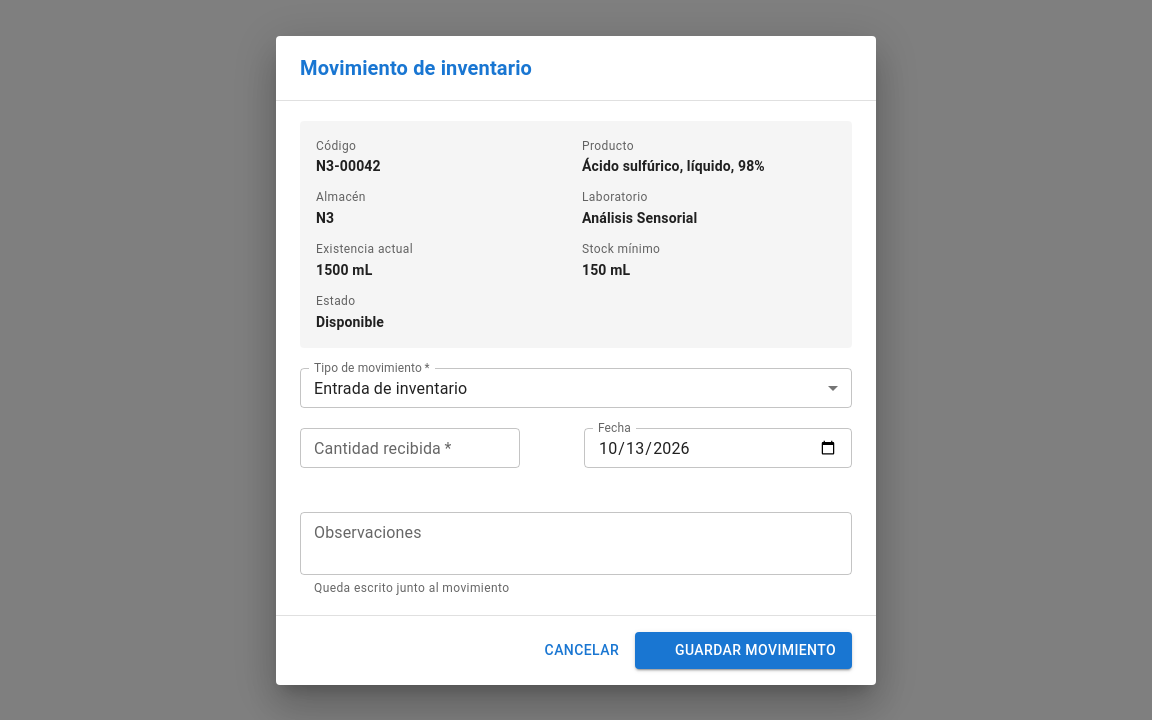
Test: DialogoMovimiento › no deja mandarlo al laboratorio donde ya está
Click the dropdown named "Tipo de movimiento": (391, 388) x1=314 y1=379 x2=467 y2=398
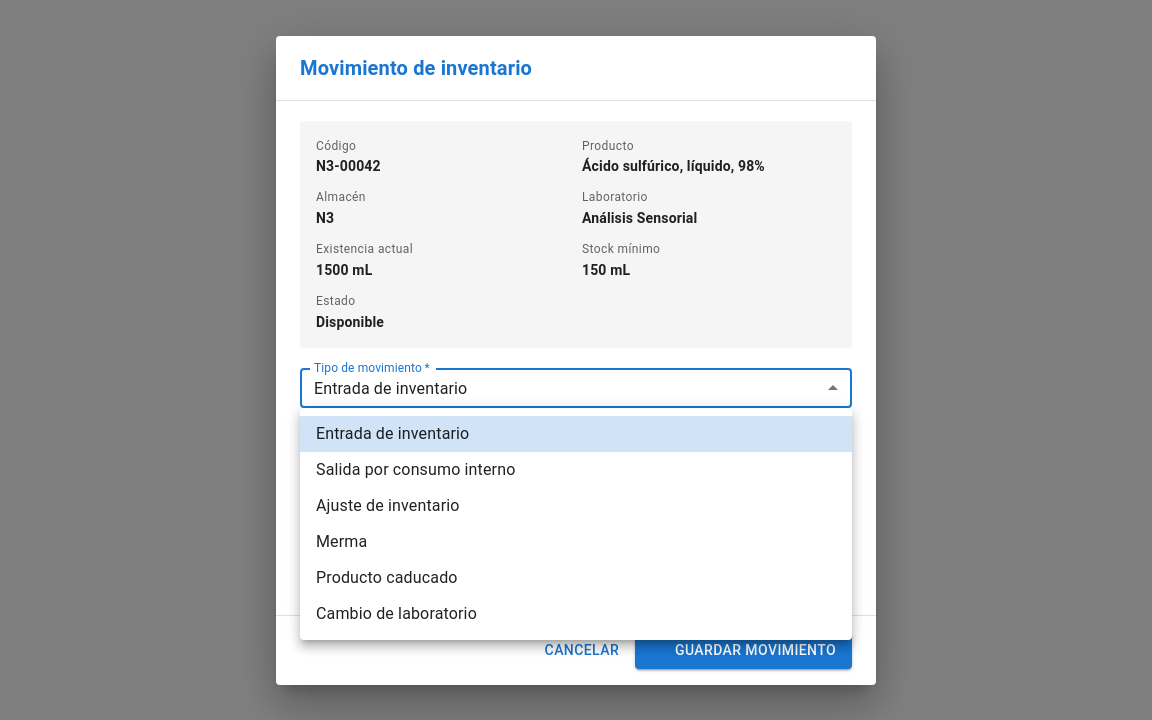
Click the option "Cambio de laboratorio": (396, 614) x1=316 y1=604 x2=477 y2=623
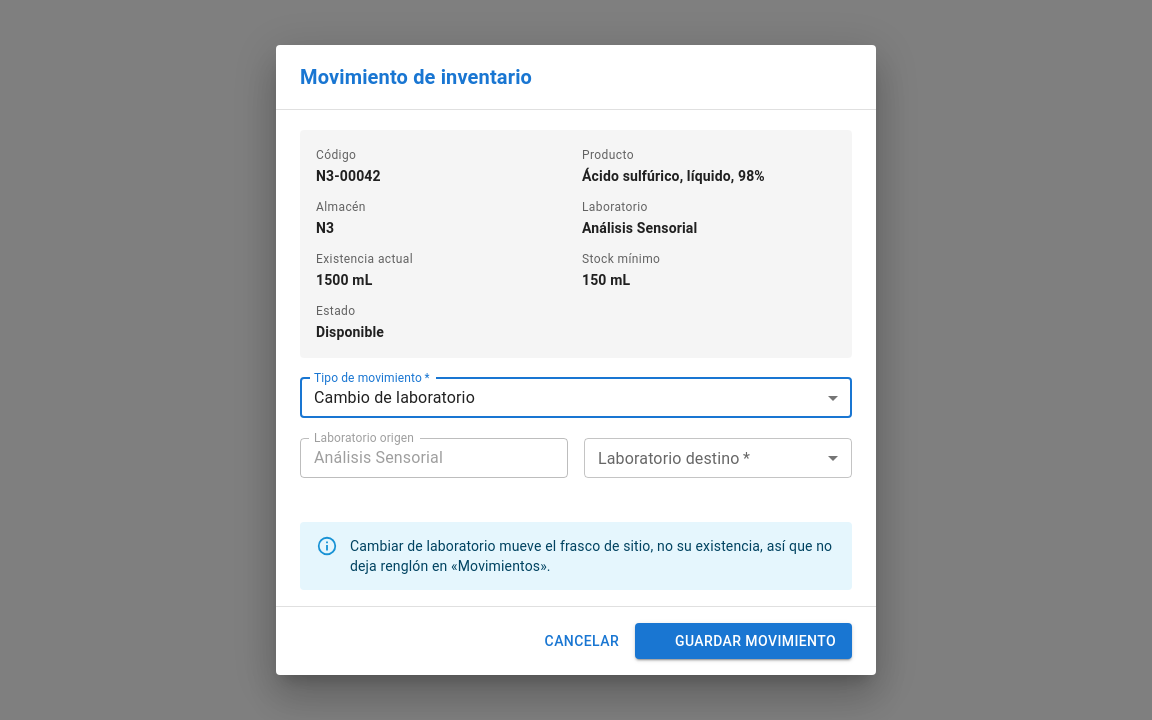
Click the dropdown named "Laboratorio destino": (718, 458) x1=584 y1=438 x2=852 y2=478
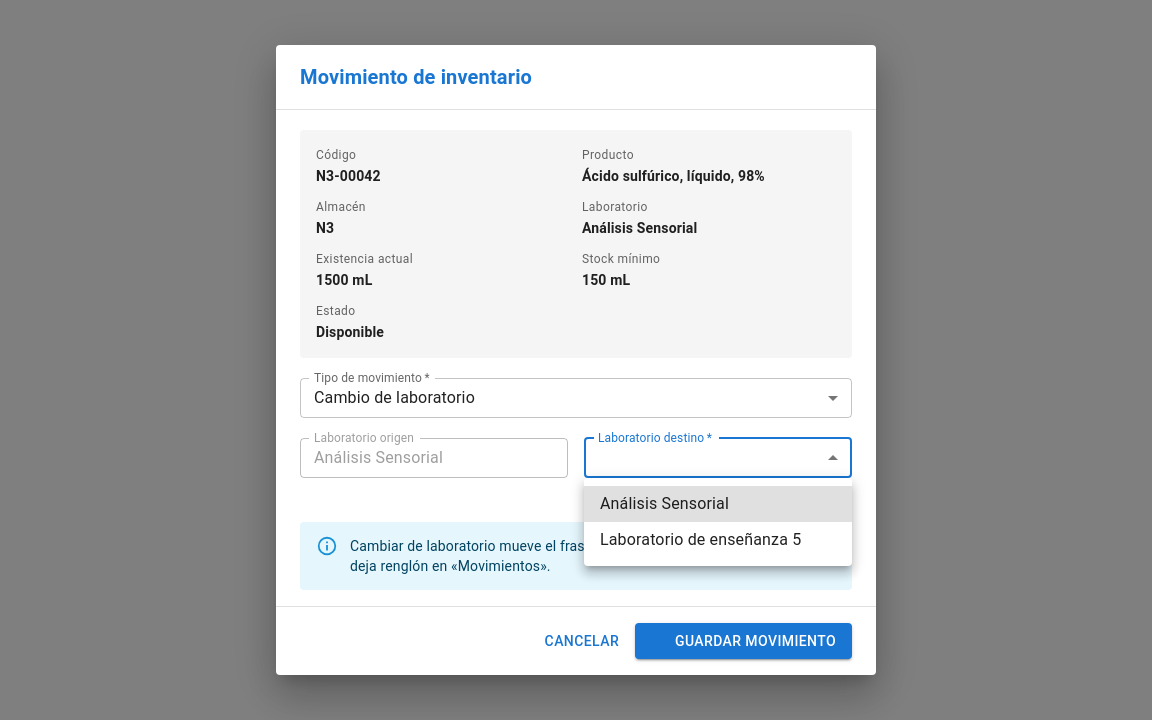
Click the option "Análisis Sensorial": (718, 504) x1=584 y1=486 x2=852 y2=522
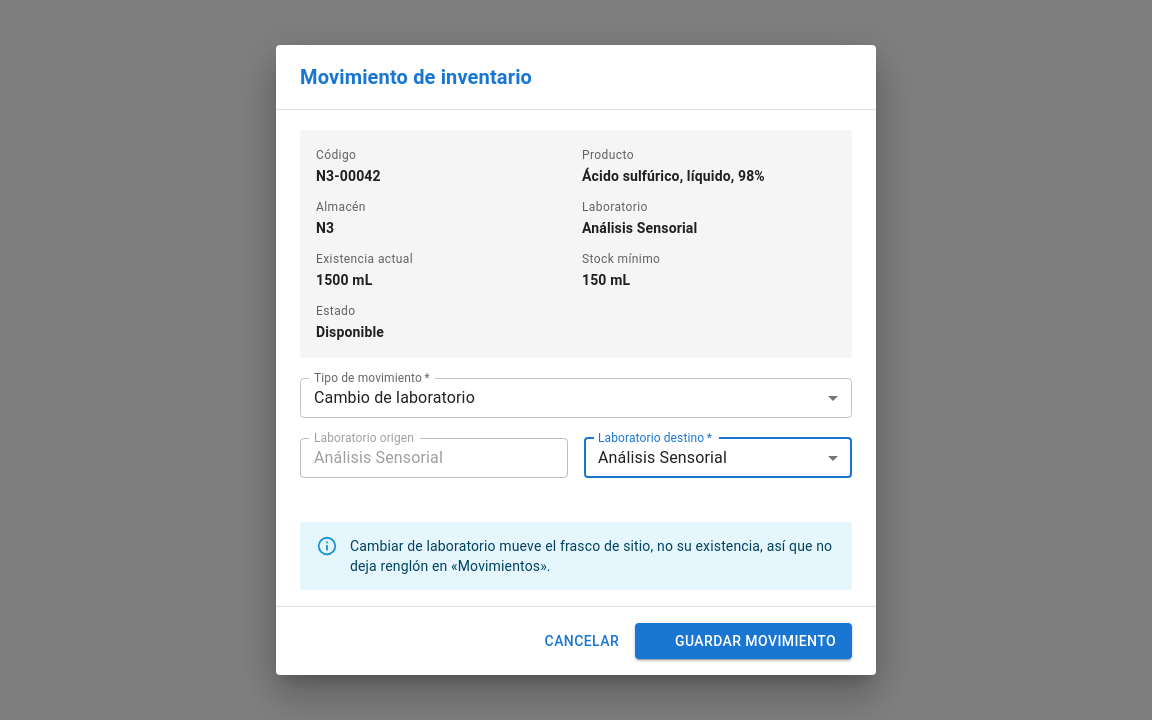
Click the button "Guardar movimiento": (744, 641) x1=635 y1=623 x2=852 y2=659
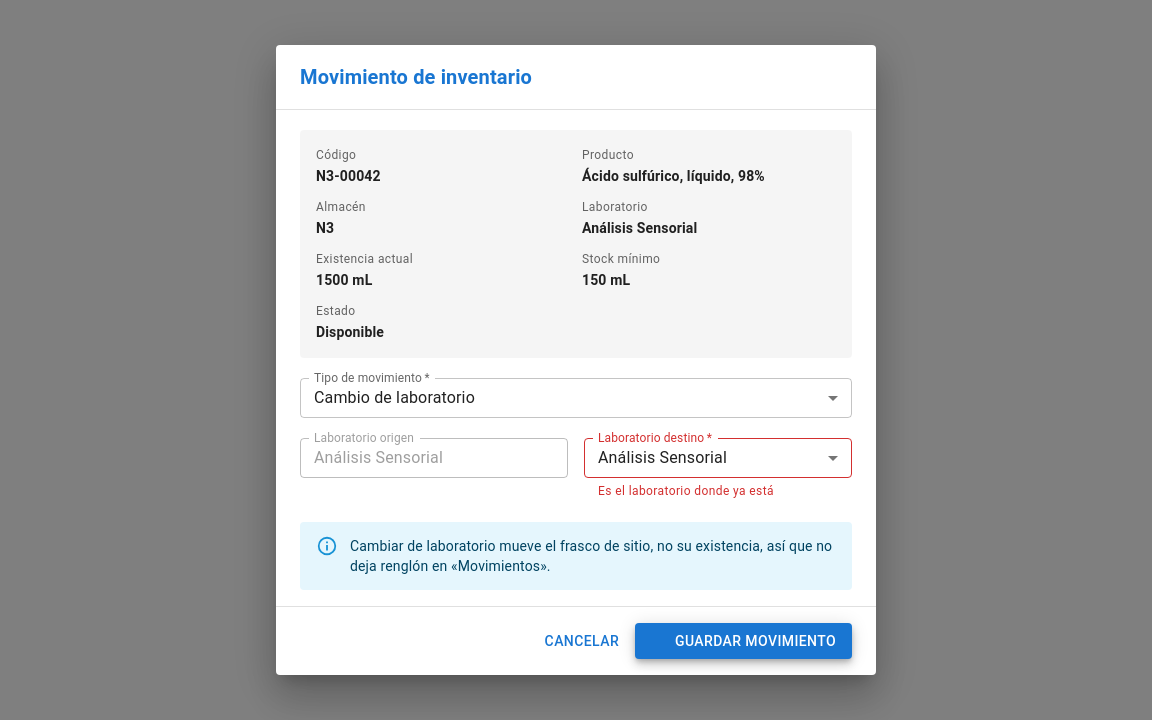
Expected: the text "Es el laboratorio donde ya está" is shown, x1=598 y1=484 x2=774 y2=498
